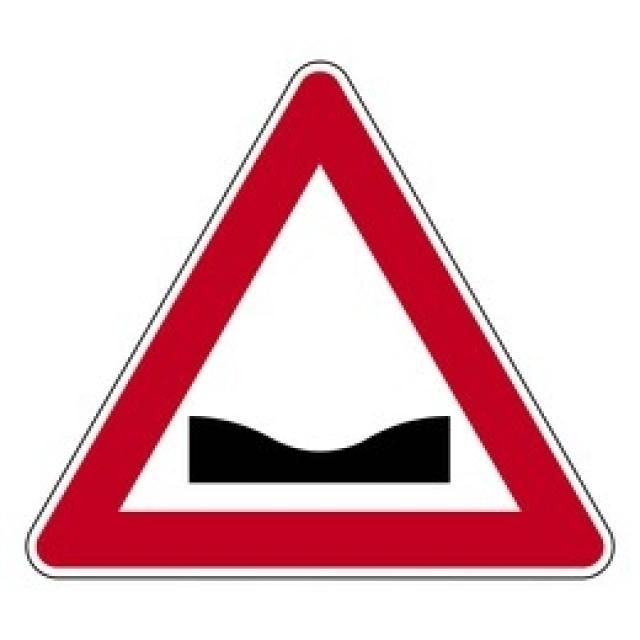dangerous dip: (26, 55, 613, 587)
